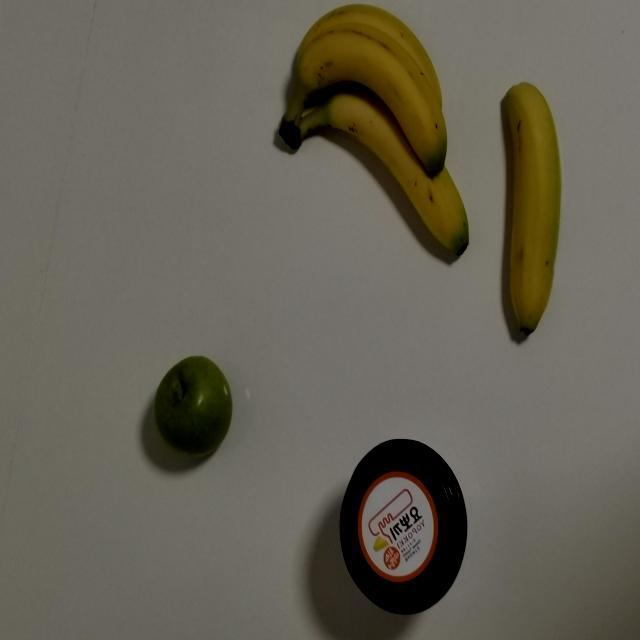Apple: (153, 347, 235, 458)
Banana: (276, 0, 468, 258), (488, 75, 582, 359)
